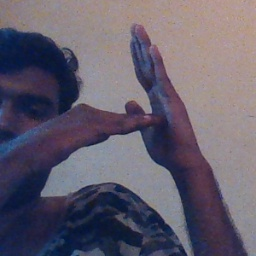Z: (79, 22, 205, 175)
